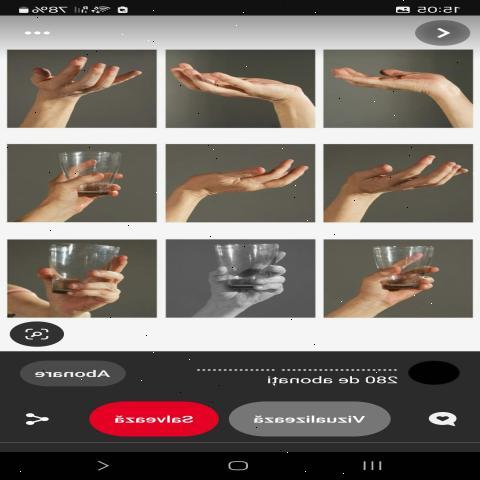Hands: (17, 44, 149, 127), (163, 146, 310, 214), (326, 148, 469, 212), (165, 52, 315, 112), (322, 57, 462, 120)
